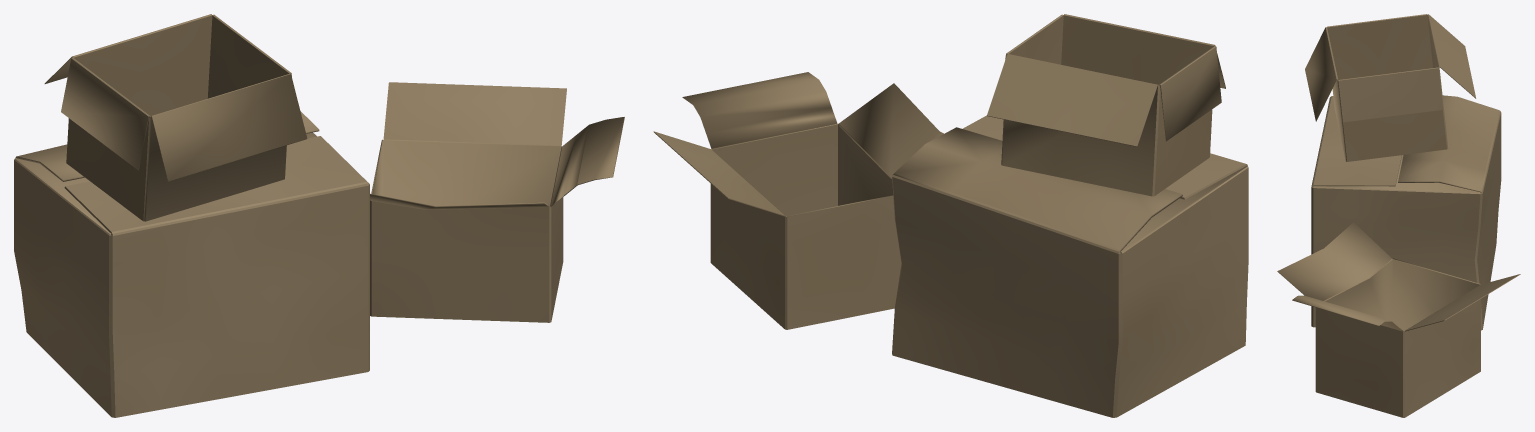
File: SP_TrashBox01.fbx
The picture shows the model from 3 angles, left to right: view 1: azimuth 30°, elevation 25°; view 2: azimuth 150°, elevation 25°; view 3: azimuth 270°, elevation 25°; orthographic projection. The views are drawn at different scales.
Visible parts, largest first — view 1: SP_TrashBox01; view 2: SP_TrashBox01; view 3: SP_TrashBox01.
Part boxes in pixels (x1,y1,x2,y2): SP_TrashBox01: (14,14,624,417); SP_TrashBox01: (653,14,1248,417); SP_TrashBox01: (1277,14,1520,417).
Size of the model in its own units: 1.1 by 0.5987 by 0.5657.
